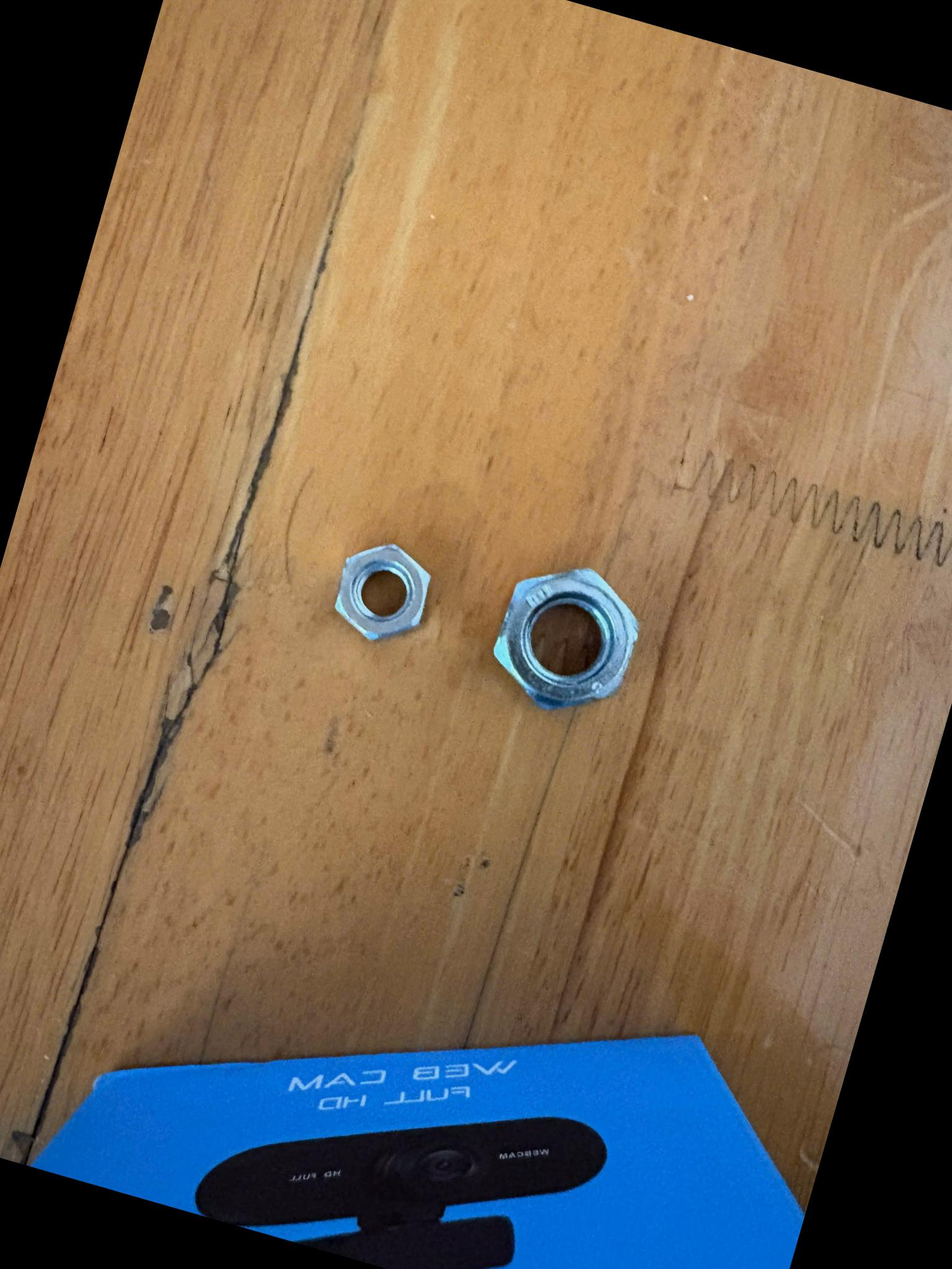nut: (456, 533, 691, 759), (289, 523, 465, 668)
